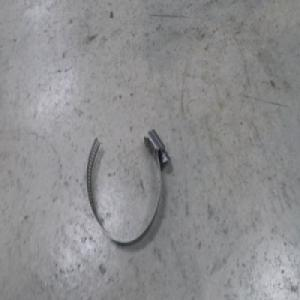AdjustableClamp: (86, 127, 169, 244)
